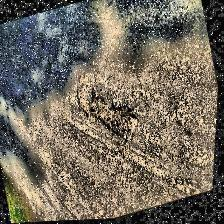pothole: (65, 58, 149, 156)
